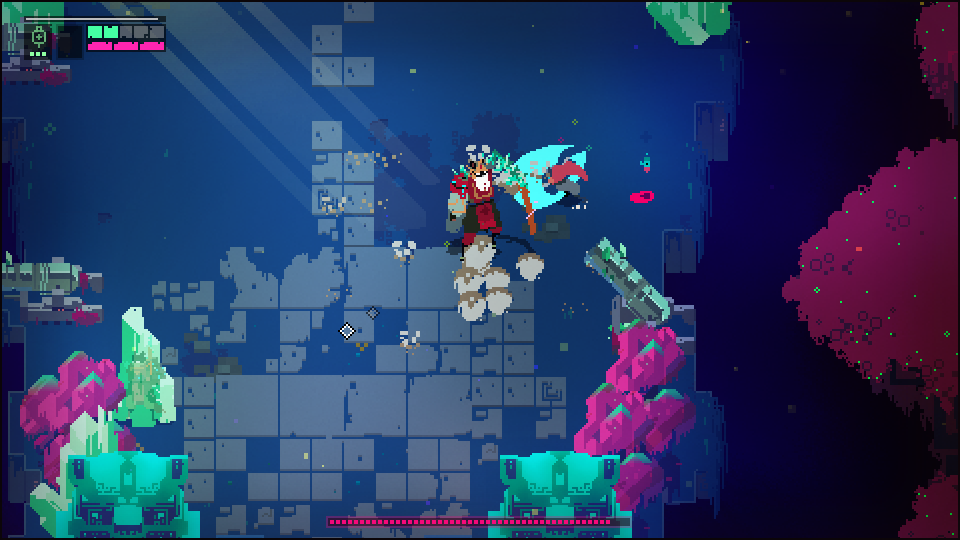hanged_man: (442, 157, 531, 253)
player: (536, 149, 594, 217)
